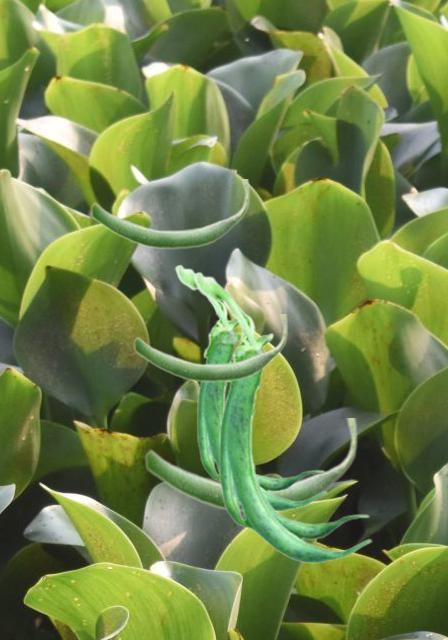french_bean: (192, 271, 371, 563), (174, 264, 326, 511), (144, 418, 357, 511), (90, 179, 249, 249), (133, 314, 287, 382)
